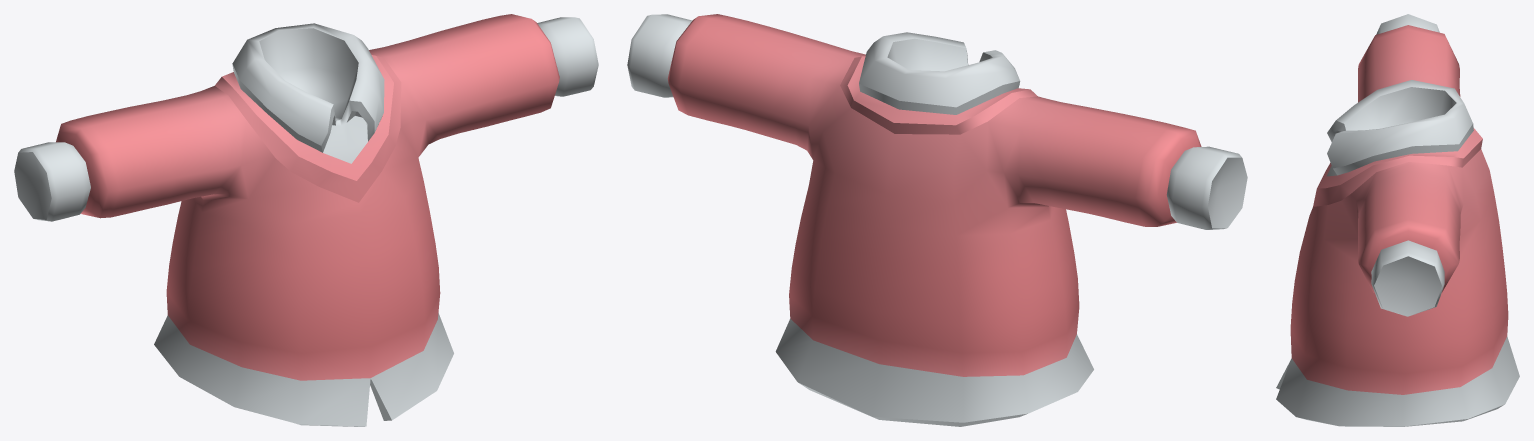
Rendered from Top_39.fbx.
The picture shows the model from 3 angles, left to right: view 1: azimuth 30°, elevation 25°; view 2: azimuth 150°, elevation 25°; view 3: azimuth 270°, elevation 25°; orthographic projection. The views are drawn at different scales.
Parts seen in each view (by area): view 1: Top_39; view 2: Top_39; view 3: Top_39.
Part boxes in pixels (<box>): Top_39: <box>14,14,598,426</box>; Top_39: <box>627,14,1247,426</box>; Top_39: <box>1276,14,1519,426</box>.
Size of the model in its own units: 94.82 by 54.29 by 40.36.
